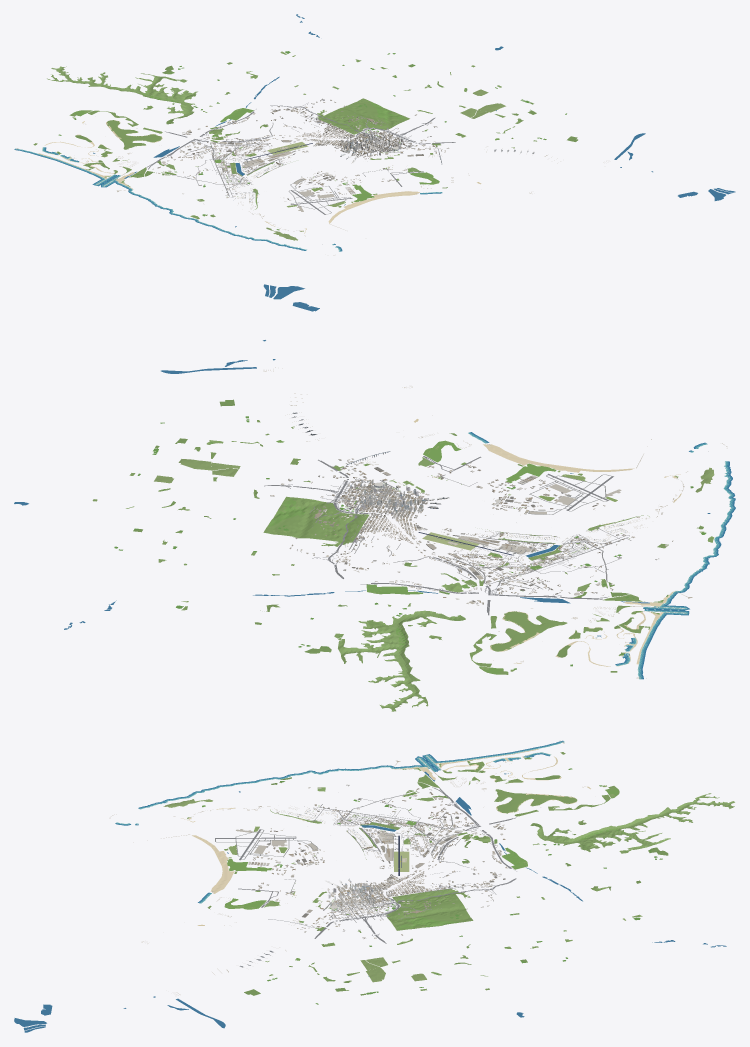
The model's file is land.glb.
The picture shows the model from 3 angles, top to bottom: view 1: azimuth 30°, elevation 25°; view 2: azimuth 150°, elevation 25°; view 3: azimuth 270°, elevation 25°; orthographic projection. The views are drawn at different scales.
Parts seen in each view (by area): view 1: decal-area-green, buildings, decal-roads, buildings-1, decal-shallows, decal-area-beach, decal-ponds, buildings-2, decal-real-taxiways; view 2: decal-area-green, buildings, decal-roads, buildings-1, decal-shallows, decal-area-beach, decal-ponds, buildings-2, decal-real-taxiways; view 3: decal-area-green, buildings, decal-roads, buildings-1, decal-shallows, decal-area-beach, decal-ponds, decal-real-taxiways, buildings-2, decal-real-aprons.
Part boxes in pixels (bbox=[...]): decal-area-green: bbox=[33, 51, 577, 240]; buildings: bbox=[152, 106, 390, 214]; decal-roads: bbox=[146, 102, 455, 197]; buildings-1: bbox=[295, 98, 406, 181]; decal-shallows: bbox=[14, 147, 442, 251]; decal-area-beach: bbox=[38, 120, 419, 233]; decal-ponds: bbox=[93, 14, 735, 227]; buildings-2: bbox=[334, 102, 534, 164]; decal-real-taxiways: bbox=[243, 151, 352, 214]; decal-area-green: bbox=[92, 399, 714, 711]; buildings: bbox=[338, 451, 708, 605]; decal-roads: bbox=[264, 456, 631, 615]; buildings-1: bbox=[289, 462, 471, 561]; decal-shallows: bbox=[468, 432, 735, 679]; decal-area-beach: bbox=[432, 444, 681, 666]; decal-ponds: bbox=[14, 284, 710, 637]; buildings-2: bbox=[270, 412, 390, 546]; decal-real-taxiways: bbox=[459, 473, 613, 554]; decal-area-green: bbox=[163, 752, 734, 1004]; buildings: bbox=[248, 784, 507, 887]; decal-roads: bbox=[238, 787, 516, 943]; buildings-1: bbox=[252, 883, 493, 908]; decal-shallows: bbox=[115, 740, 564, 903]; decal-area-beach: bbox=[181, 749, 590, 895]; decal-ponds: bbox=[14, 771, 726, 1032]; decal-real-taxiways: bbox=[215, 829, 398, 860]; buildings-2: bbox=[240, 906, 483, 967]; decal-real-aprons: bbox=[236, 829, 394, 860].
Size of the model in its own units: 68077 by 585 by 71004.
